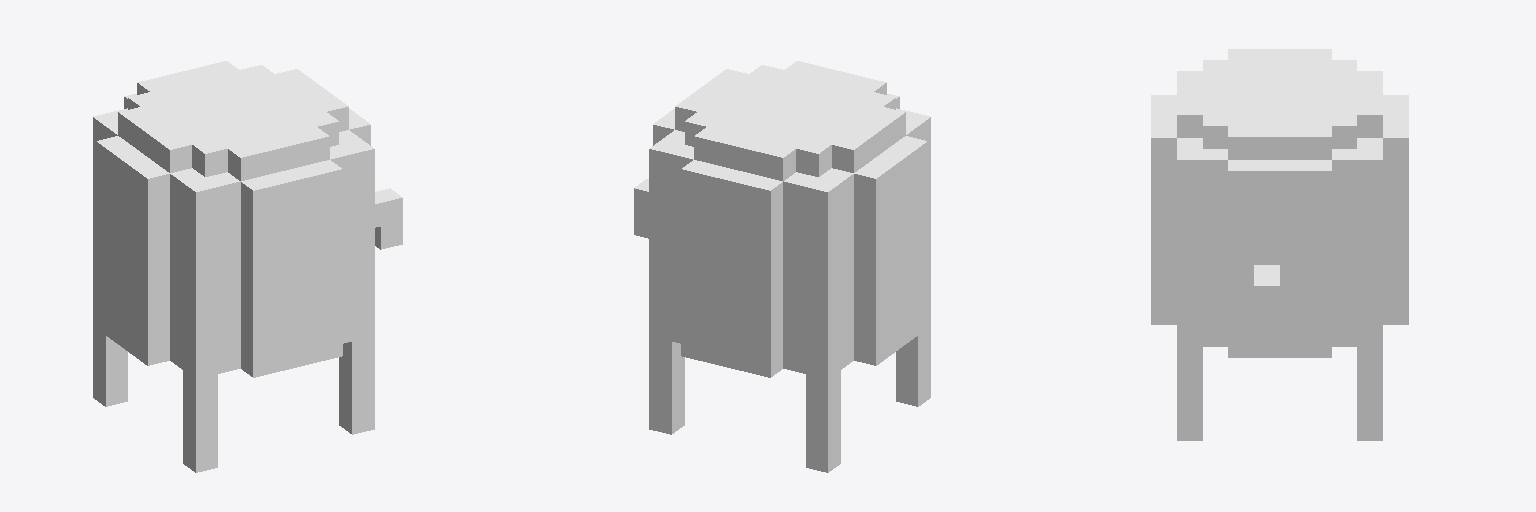
The model's file is fermenter.obj.
3 views of the same model, side by side, from view 1: azimuth 30°, elevation 25°; view 2: azimuth 150°, elevation 25°; view 3: azimuth 270°, elevation 25° (orthographic).
Visible parts, largest first — view 1: g0; view 2: g0; view 3: g0.
Part boxes in pixels (x1,y1,x2,y2): g0: (93,61,402,472); g0: (634,61,930,472); g0: (1151,49,1408,440).
Size of the model in its own units: 0.75 by 0.8125 by 0.625.